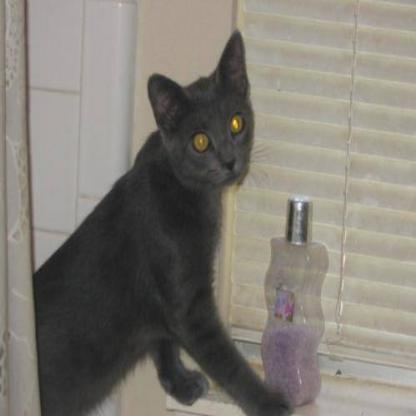cat: (66, 49, 300, 320)
